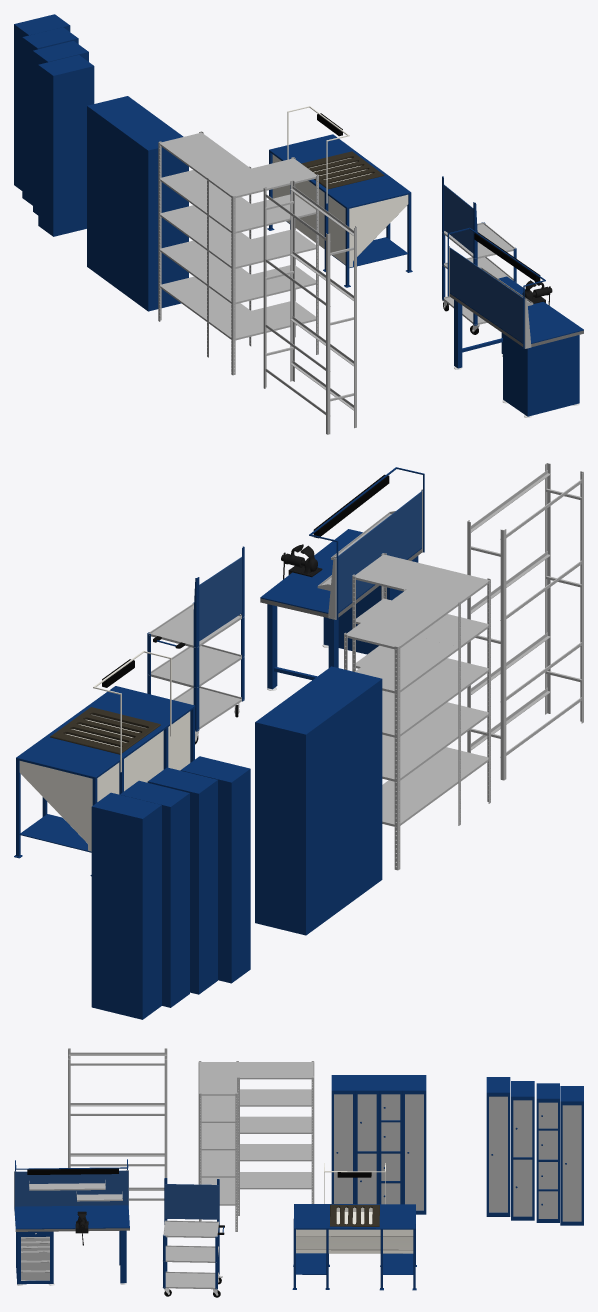
The model's file is stelaz.FBX.
3 views of the same model, one above another, from view 1: azimuth 30°, elevation 25°; view 2: azimuth 150°, elevation 25°; view 3: azimuth 270°, elevation 25° (orthographic). The views are drawn at different scales.
Visible parts, largest first — view 1: Box225, Box127, Box155, Box139 (×2), Box138, Box154, Box09, Box128, Box135, Box236, Box319, Box308 (+22 smaller); view 2: Box139 (×2), Box233, Box225, Box224, Box236, Box138, Box09, Box135, Box128, Box127, Box154, Box308 (+25 smaller); view 3: Box138 (×2), Box154, Box140 (×2), Box141, Box230, Box229, Box09, Box139 (×2), Box18, Box308, Box319, Box225 (+37 smaller).
Boxes of the visible parts, x1=… form: Box225: x1=38, y1=55, x2=94, y2=236; Box127: x1=133, y1=129, x2=188, y2=311; Box155: x1=503, y1=333, x2=579, y2=416; Box139 (×2): x1=87, y1=96, x2=384, y2=277; Box138: x1=272, y1=154, x2=408, y2=267; Box154: x1=450, y1=247, x2=523, y2=342; Box09: x1=269, y1=134, x2=411, y2=209; Box128: x1=117, y1=118, x2=173, y2=299; Box135: x1=102, y1=107, x2=157, y2=288; Box236: x1=22, y1=27, x2=78, y2=205; Box319: x1=209, y1=158, x2=316, y2=198; Box308: x1=160, y1=132, x2=250, y2=179; Box139 (×2): x1=50, y1=707, x2=325, y2=935; Box233: x1=91, y1=792, x2=161, y2=1019; Box225: x1=180, y1=756, x2=250, y2=983; Box224: x1=147, y1=767, x2=217, y2=994; Box236: x1=120, y1=780, x2=189, y2=1007; Box138: x1=19, y1=711, x2=190, y2=851; Box09: x1=16, y1=686, x2=195, y2=779; Box135: x1=274, y1=694, x2=344, y2=921; Box128: x1=293, y1=680, x2=363, y2=907; Box127: x1=313, y1=666, x2=382, y2=893; Box154: x1=335, y1=490, x2=422, y2=612; Box308: x1=346, y1=590, x2=458, y2=649; Box138 (×2): x1=296, y1=1094, x2=413, y2=1253; Box154: x1=14, y1=1170, x2=128, y2=1206; Box140 (×2): x1=383, y1=1094, x2=423, y2=1274; Box141: x1=14, y1=1205, x2=129, y2=1229; Box230: x1=562, y1=1105, x2=581, y2=1221; Box229: x1=489, y1=1096, x2=507, y2=1212; Box09: x1=293, y1=1204, x2=415, y2=1229; Box139 (×2): x1=330, y1=1075, x2=426, y2=1226; Box18: x1=165, y1=1184, x2=218, y2=1219; Box308: x1=237, y1=1062, x2=313, y2=1079; Box319: x1=199, y1=1062, x2=237, y2=1095; Box225: x1=486, y1=1077, x2=510, y2=1216.
Bounding box in the file's own units: 3086 × 2240 × 7471.
